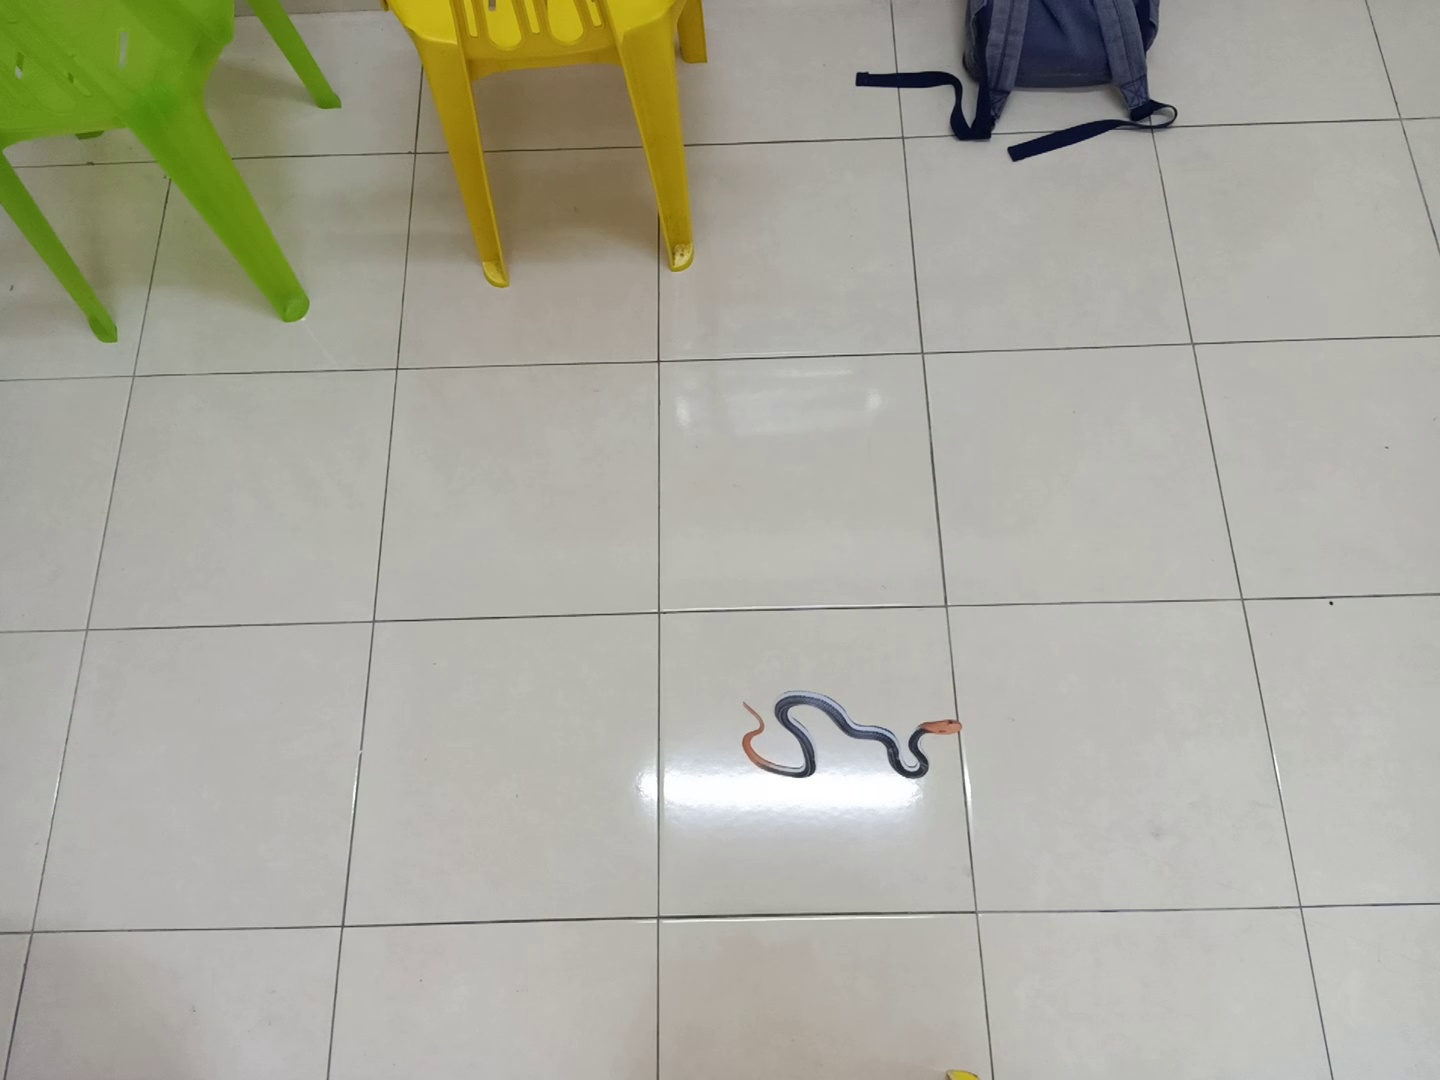snake: (734, 683, 975, 787)
